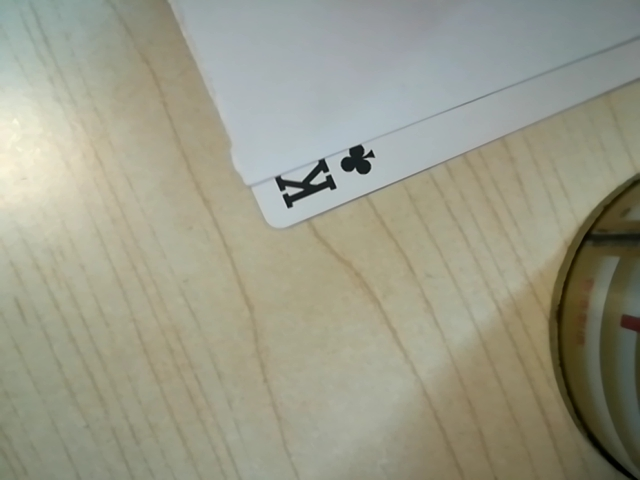mh k: (265, 138, 387, 216)
